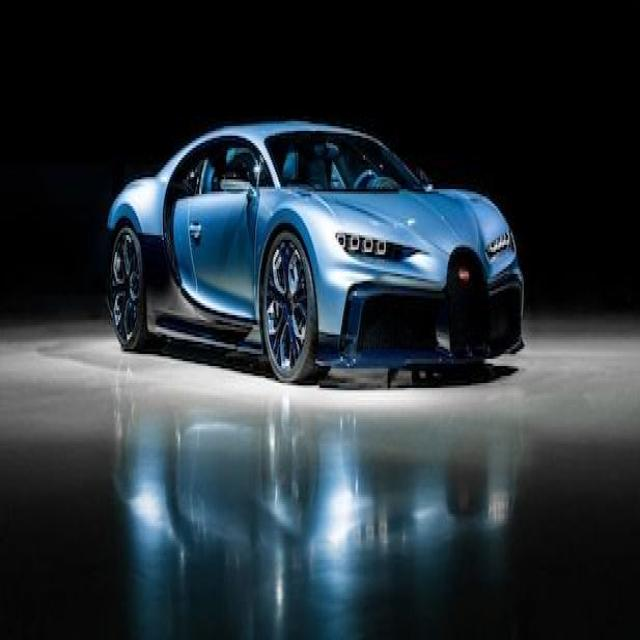cars20: (101, 115, 530, 389)
